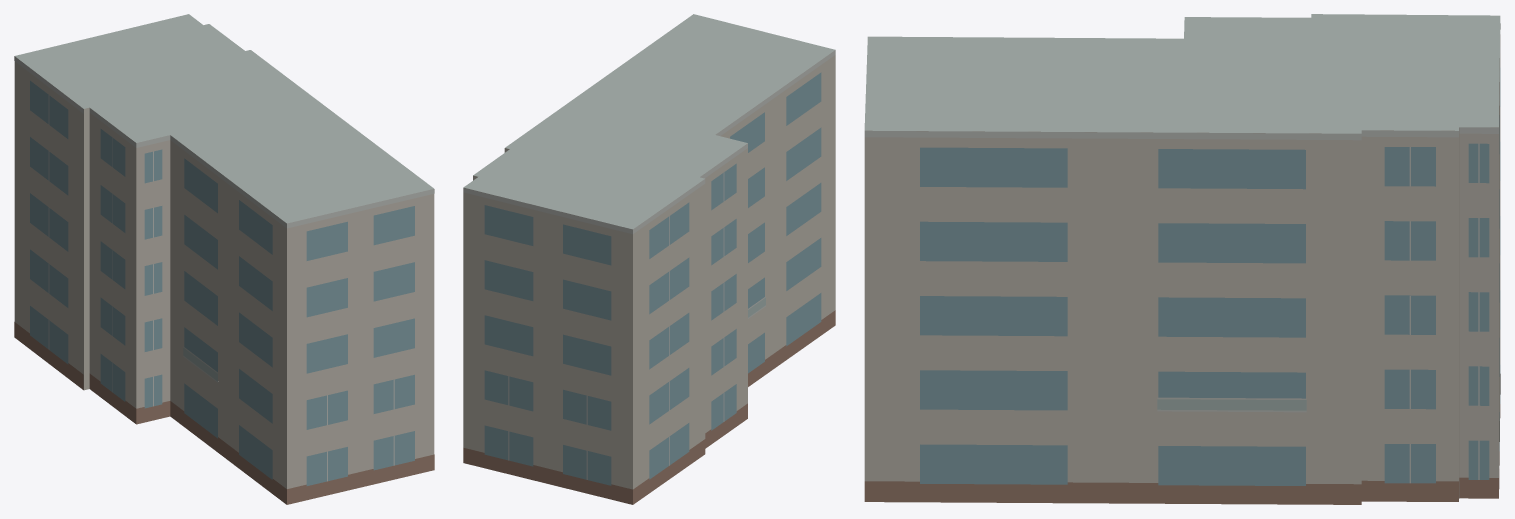
The model's file is survey-upis-32881117.glb.
The picture shows the model from 3 angles, left to right: view 1: azimuth 30°, elevation 25°; view 2: azimuth 150°, elevation 25°; view 3: azimuth 270°, elevation 25°; orthographic projection. The views are drawn at different scales.
Parts seen in each view (by area): view 1: survey-upis-32881117.tmp; view 2: survey-upis-32881117.tmp; view 3: survey-upis-32881117.tmp.
Part boxes in pixels (bbox=[...]): survey-upis-32881117.tmp: bbox=[14, 14, 434, 504]; survey-upis-32881117.tmp: bbox=[463, 14, 835, 504]; survey-upis-32881117.tmp: bbox=[864, 14, 1500, 504].
Bounding box in the file's own units: 9.63 × 13.9 × 21.59.
